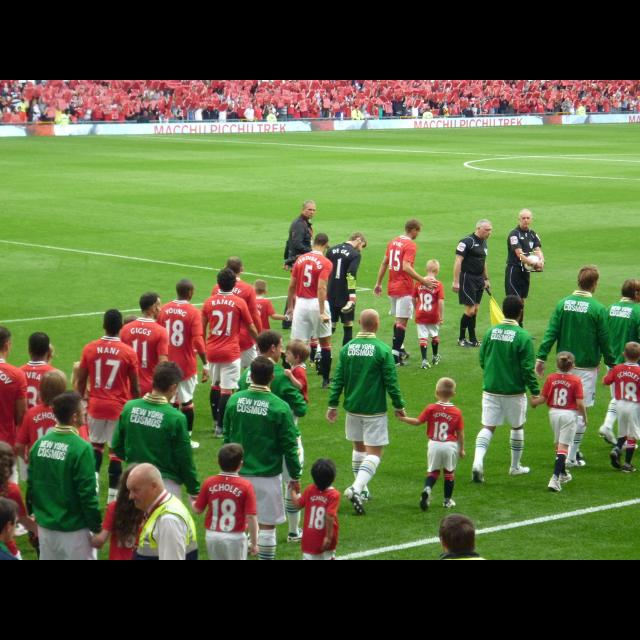Football: (521, 252, 543, 272)
